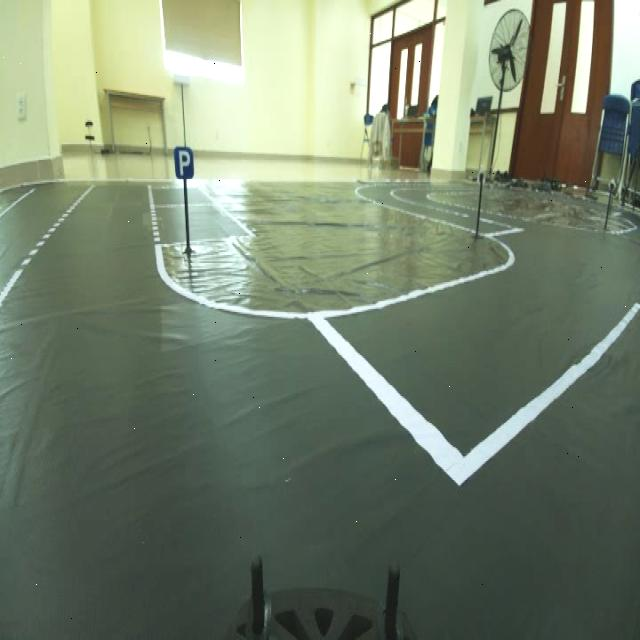parking: (170, 140, 195, 185)
